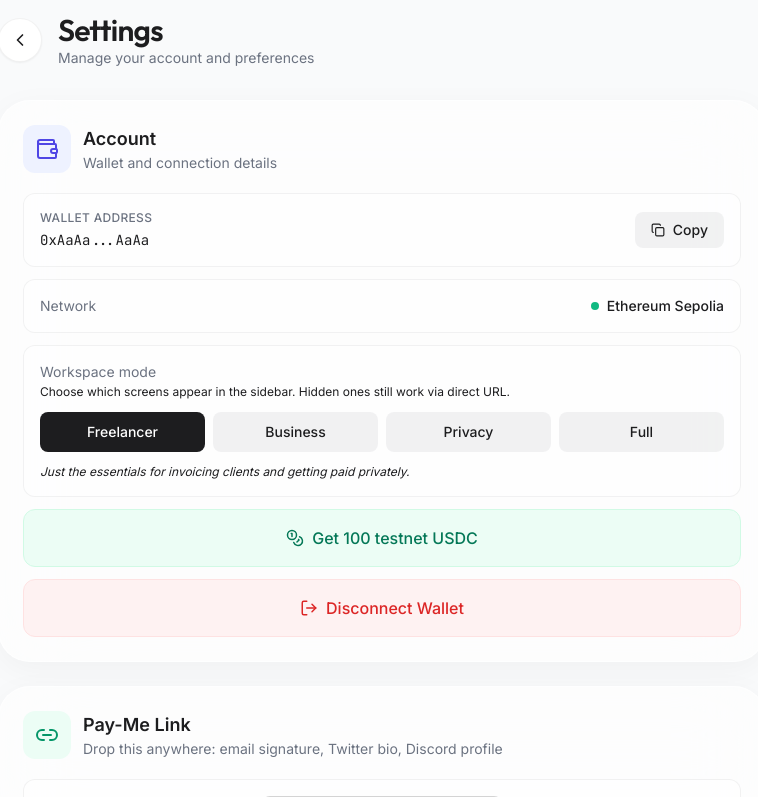
Settings — copy address (§15.x) › button aria-label flips to 'Copied' + label reads 'Copied' after copy
Click the button with aria-label "Copy address".
click(679, 230)  # box [635,212,724,248]
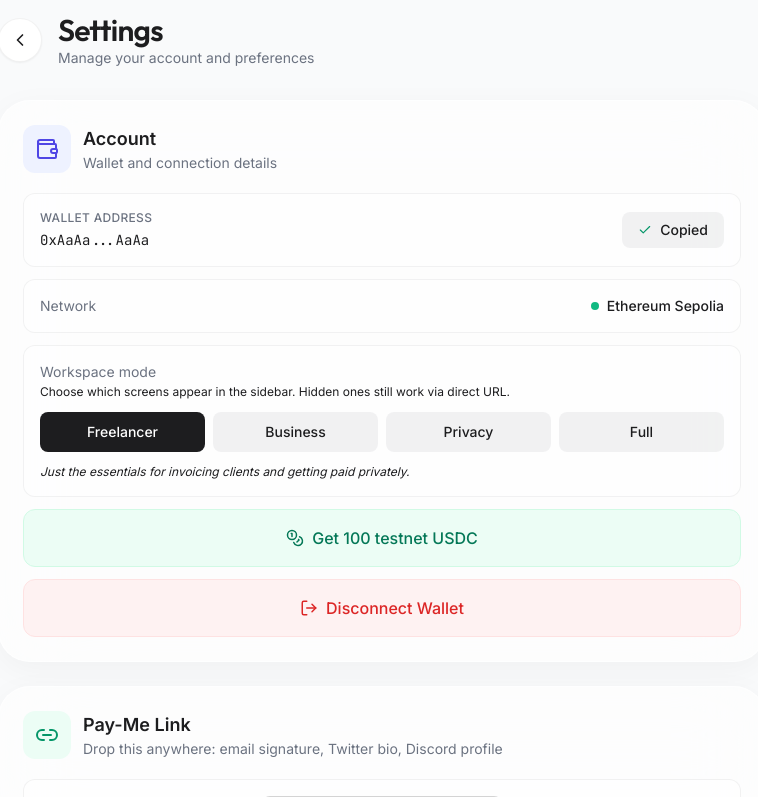
Check: the button labelled "Copied" is shown, box [622,212,724,248]
